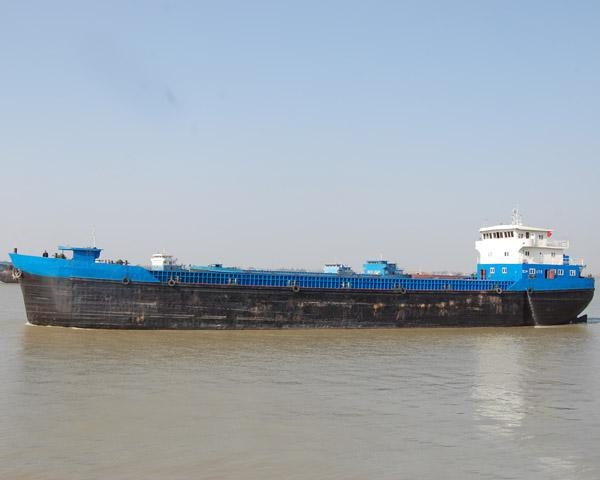Cargoship: (7, 193, 592, 335)
